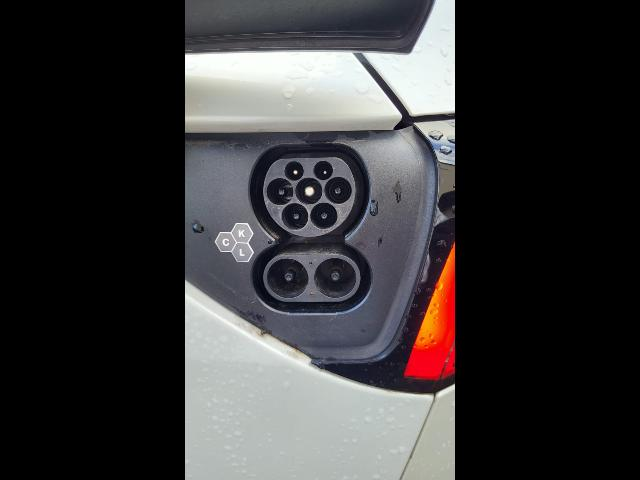inlet: (263, 157, 355, 237)
inlet-above-left: (284, 161, 304, 181)
inlet-above-right: (313, 161, 333, 180)
inlet-below-left: (282, 203, 308, 230)
inlet-below-right: (310, 203, 338, 230)
inlet-circle: (295, 177, 322, 205)
inlet-circle-left: (266, 178, 293, 205)
inlet-circle-right: (324, 177, 352, 204)
inlet-minus: (314, 258, 356, 299)
inlet-plus: (267, 258, 308, 298)
